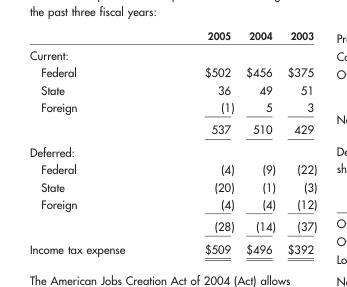table: (28, 28, 316, 255)
table column: (28, 28, 164, 255), (164, 28, 239, 255), (239, 28, 280, 255), (280, 28, 316, 255)
table column header: (28, 28, 316, 44)
table projected row header: (28, 140, 316, 160), (28, 44, 316, 63)
table row: (28, 118, 316, 140), (28, 215, 316, 237), (28, 98, 316, 118), (28, 140, 316, 160), (28, 195, 316, 215), (28, 44, 316, 63), (28, 63, 316, 81), (28, 177, 316, 195), (28, 237, 316, 255), (28, 81, 316, 98), (28, 160, 316, 177), (28, 28, 316, 44)
